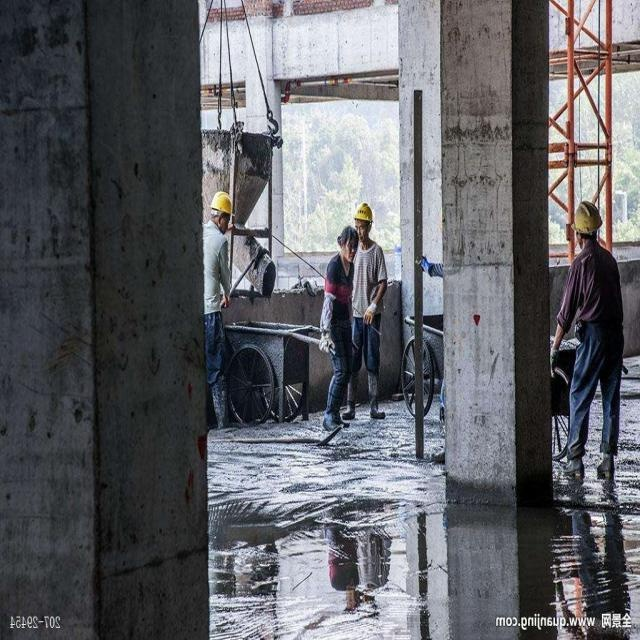Con_Casco: (210, 191, 234, 227)
Sin_Casco_Mascarrilla: (338, 226, 359, 263)
